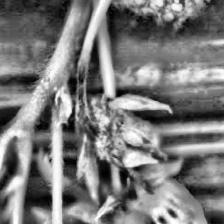Gray Mold: (74, 90, 173, 202)
